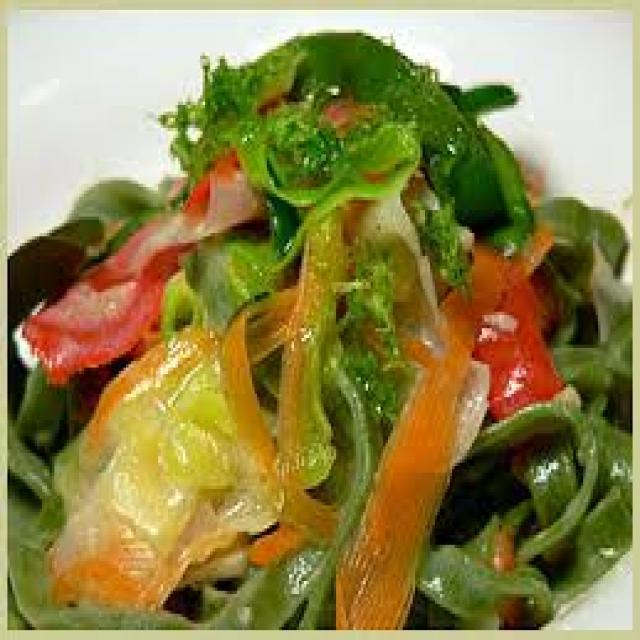Wet: (7, 6, 639, 636), (137, 28, 538, 234), (41, 335, 298, 620)
